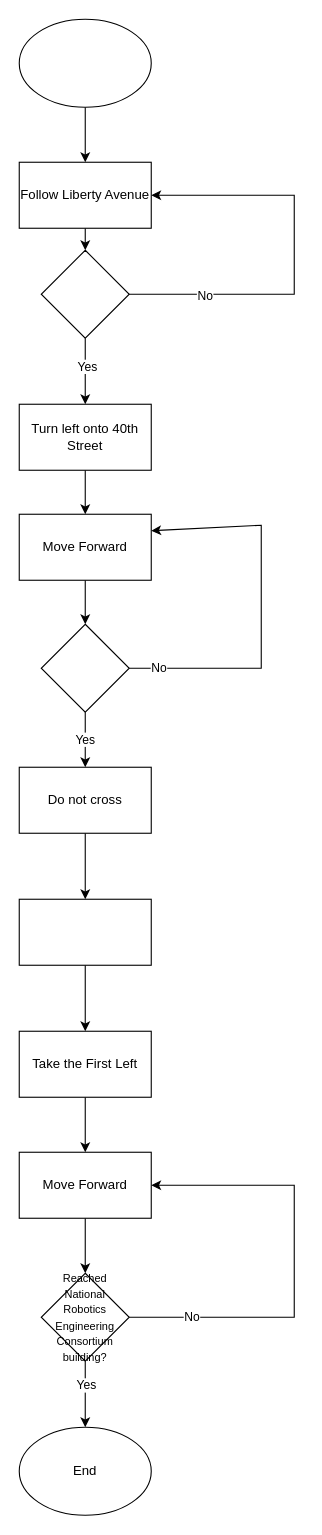
This 322x1535 diagram has some shape labels left out. Each missing label, with the centre of its shape:
Gone 2 miles on Liberty Avenue?: point (84, 293)
Reached the bridge?: point (84, 667)
Start: point (84, 62)
Turn right onto Foster Street: point (84, 931)
